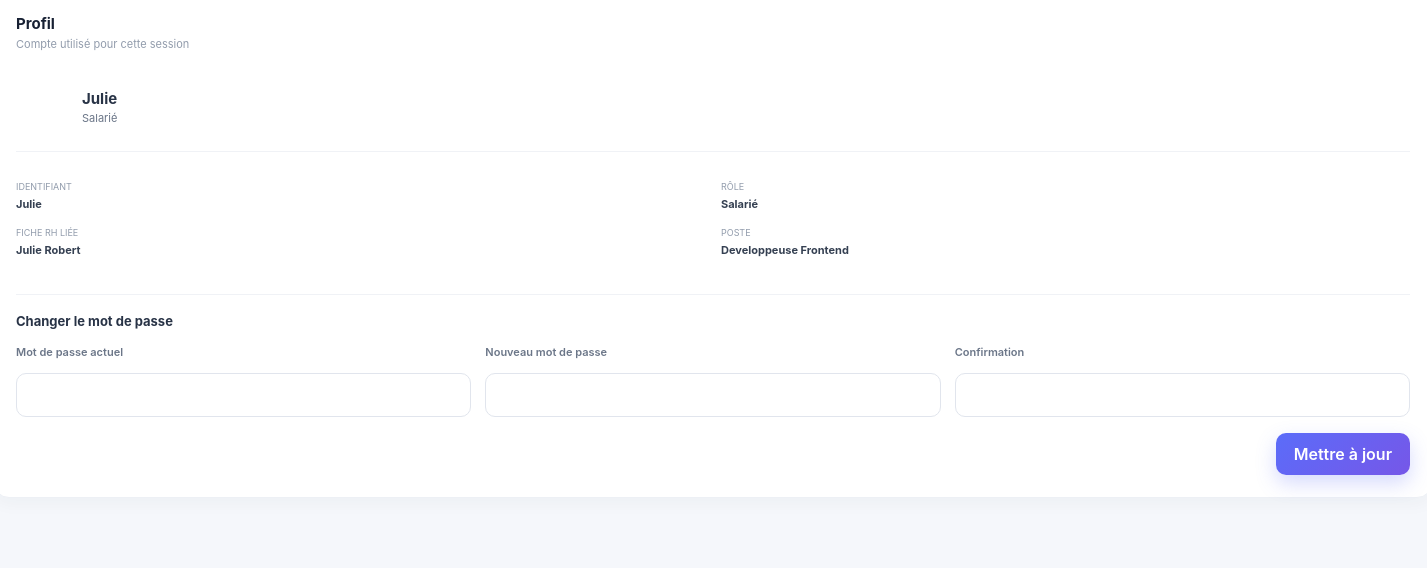
Test: <ProfileSettings /> › refuse un mot de passe actuel erroné
Step 1. Type "faux" into the password field labelled "Mot de passe actuel" → (244, 395), box [16,373,471,417]
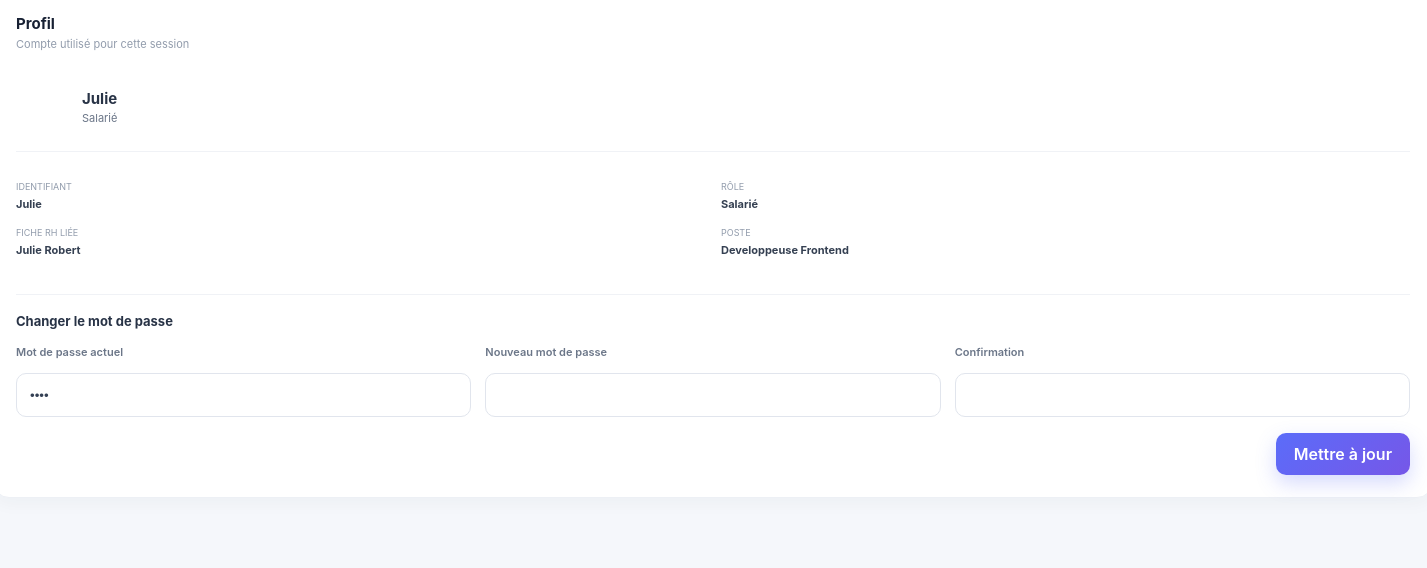
Step 2. Type "abcd1234" into the password field labelled "Nouveau mot de passe" → (713, 395), box [485,373,941,417]
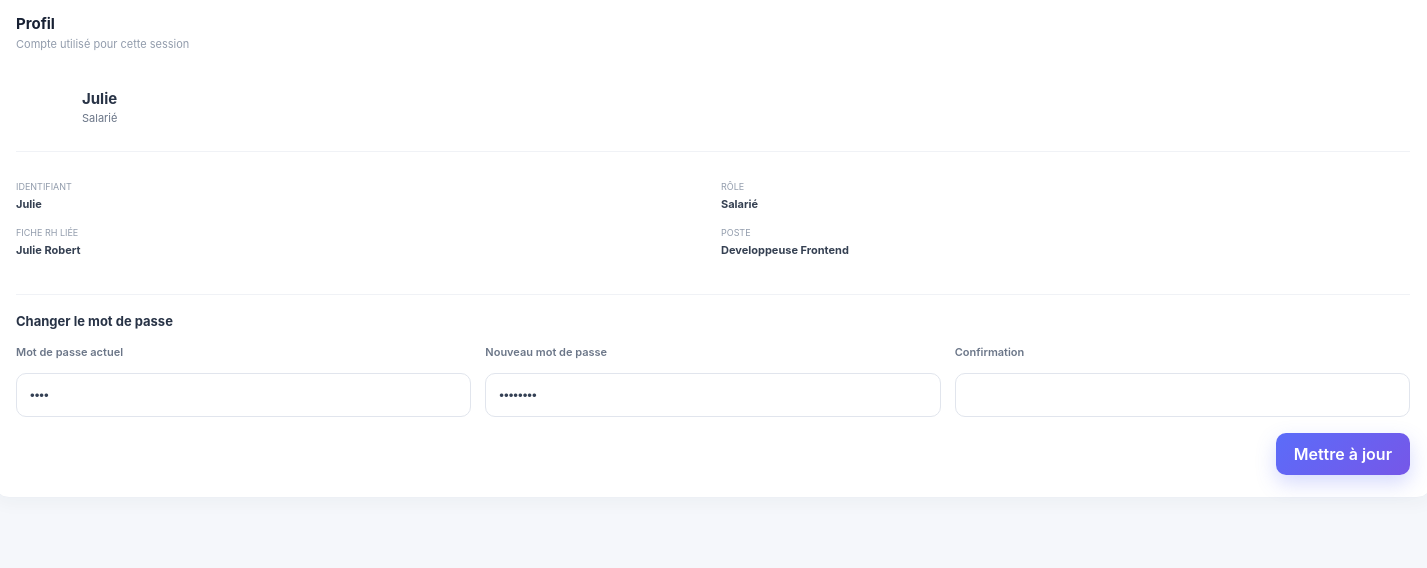
Step 3. Type "abcd1234" into the password field labelled "Confirmation" → (1182, 395), box [955,373,1410,417]
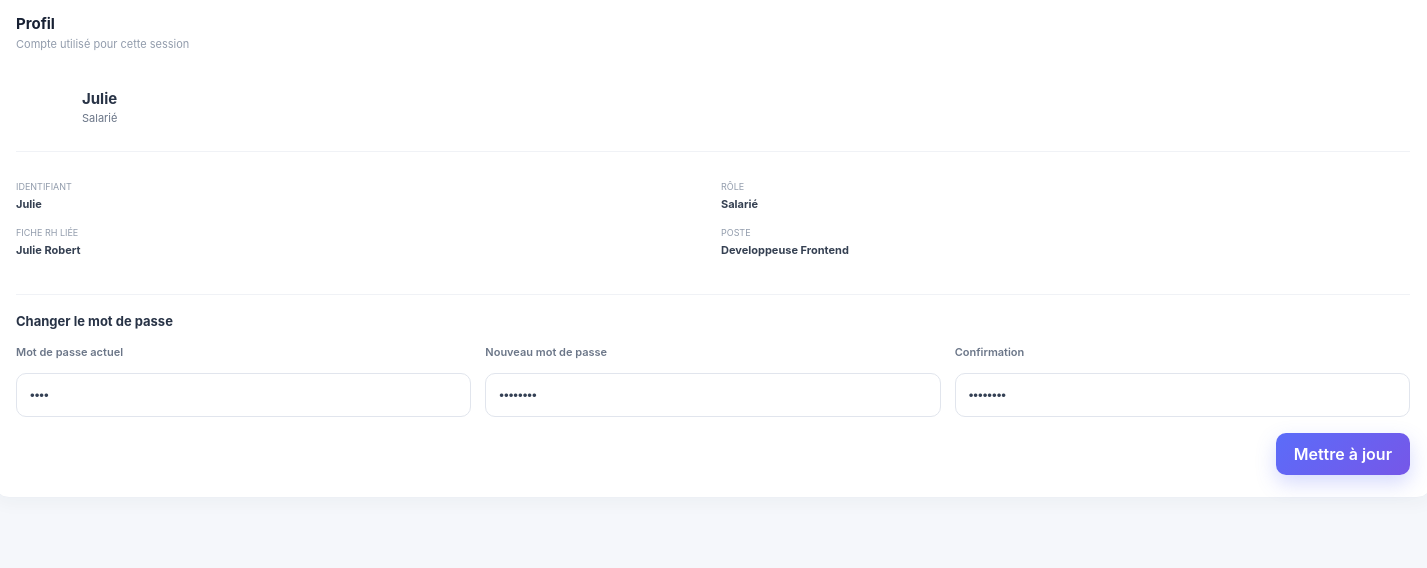
Step 4. Click the button "Mettre à jour" → (1343, 454), box [1276,433,1410,475]
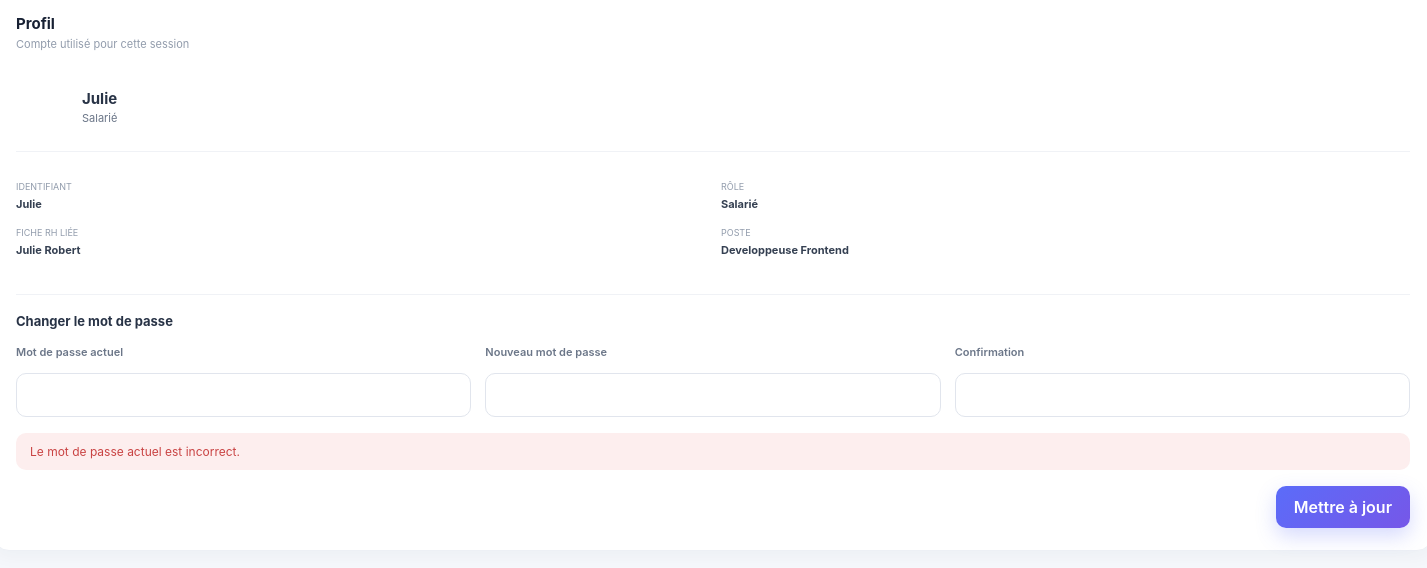
Expected: the text "Le mot de passe actuel est incorrect." is shown, [16,433,1410,470]
